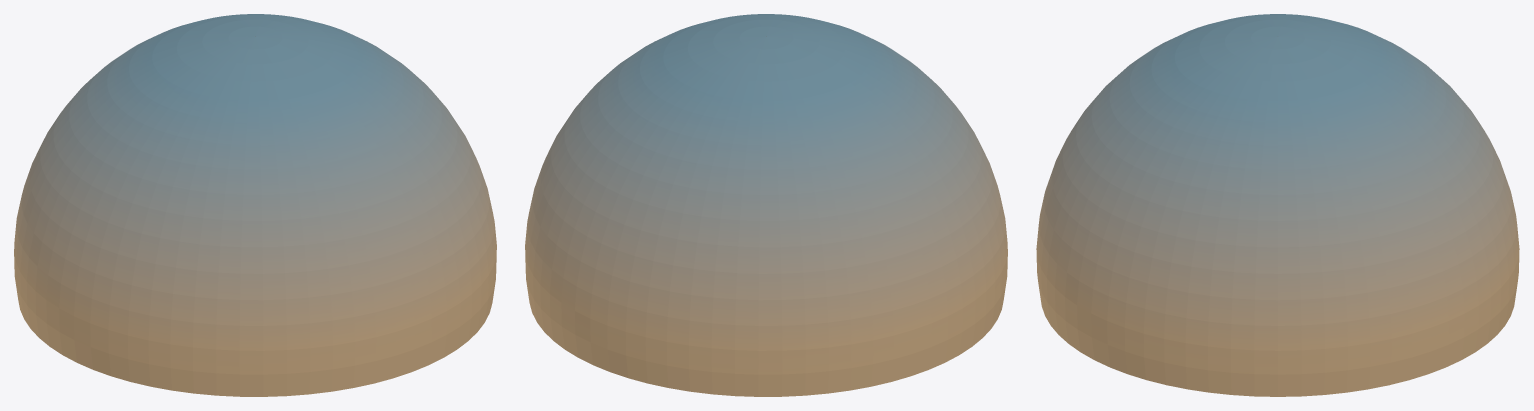
Rendered from environment.glb.
3 renders of one model, left to right at view 1: azimuth 30°, elevation 25°; view 2: azimuth 150°, elevation 25°; view 3: azimuth 270°, elevation 25°, orthographic.
Visible parts, largest first — view 1: environment__Sky; view 2: environment__Sky; view 3: environment__Sky.
Boxes of the visible parts, x1,y1,x2,y2 form: environment__Sky: (14,14,496,396); environment__Sky: (525,14,1007,396); environment__Sky: (1036,14,1519,396).
Bounding box in the file's own units: 89.96 × 53.43 × 89.96.
